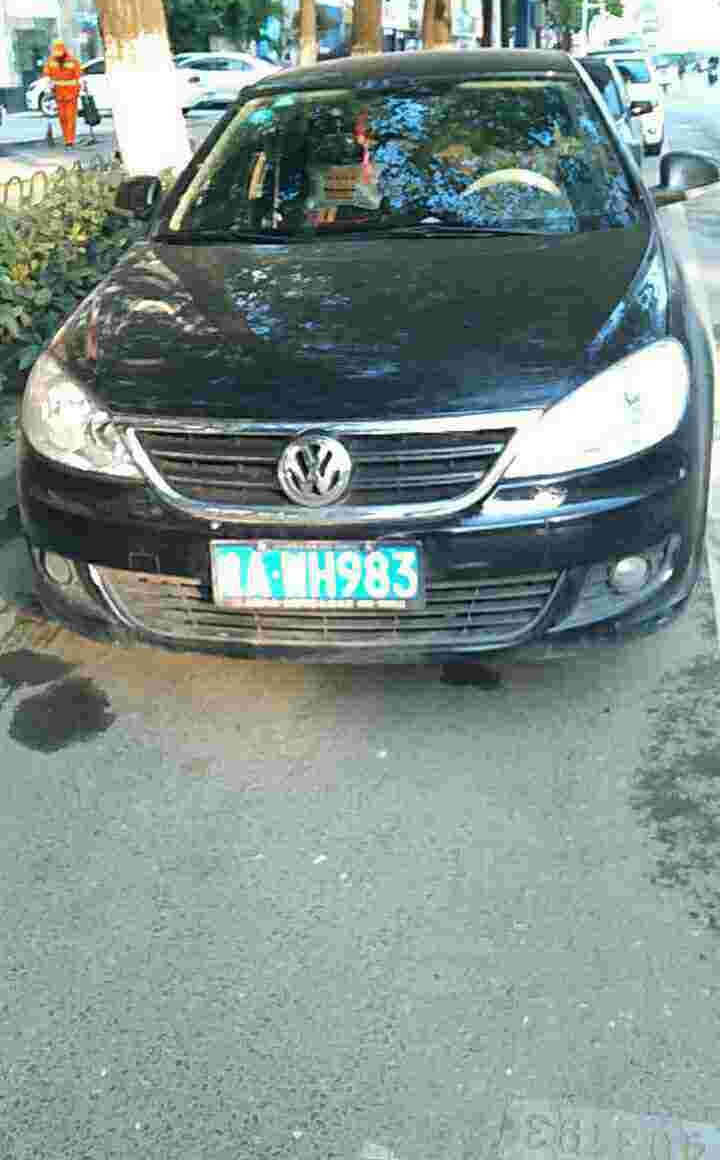license_plate: (220, 542, 432, 605)
